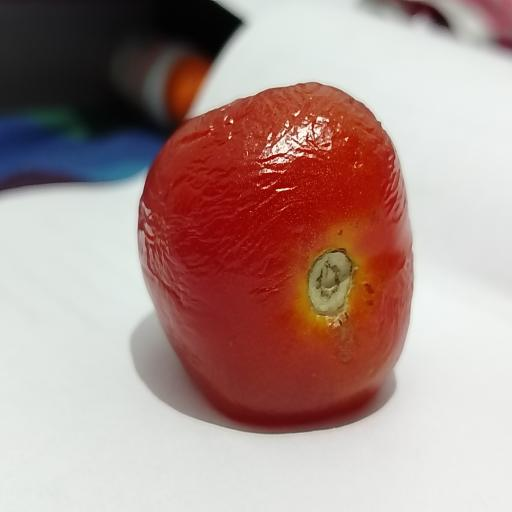spoiled: (138, 83, 413, 423)
